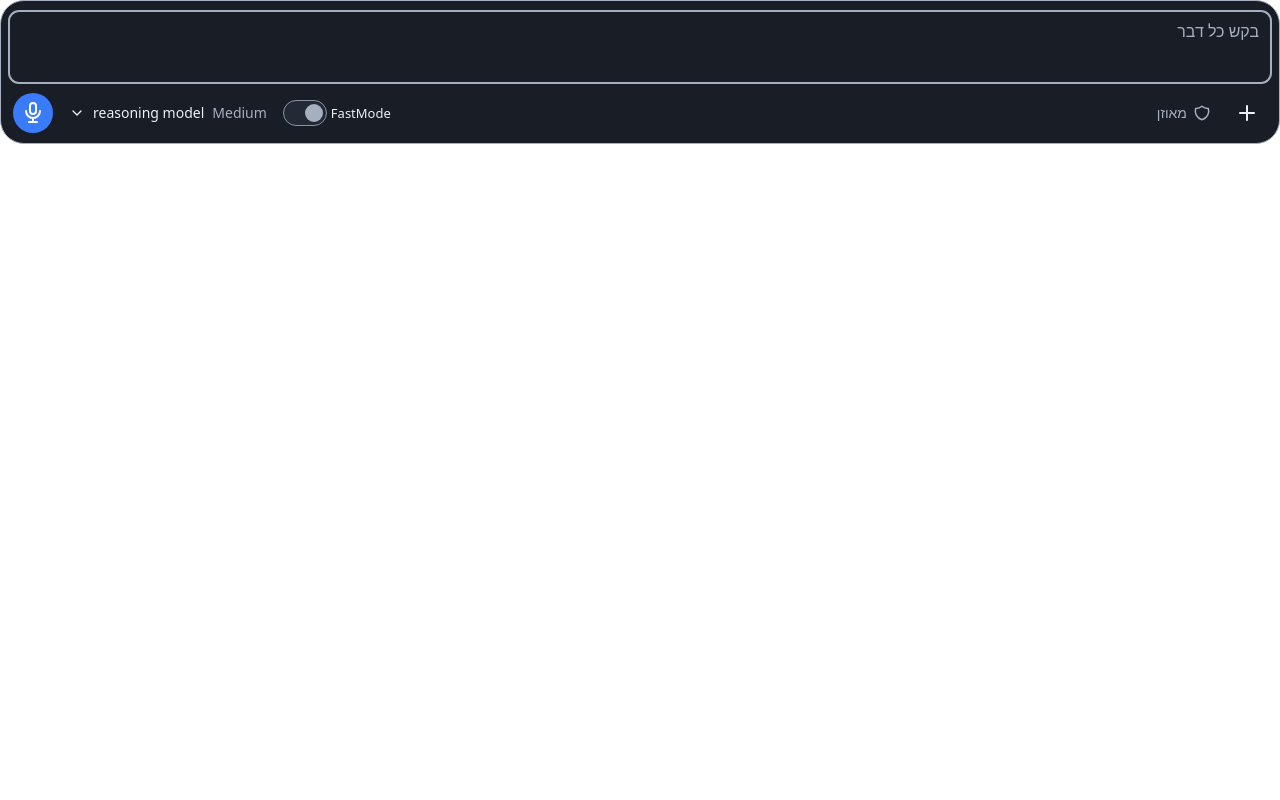
Scenario: budget-only local models have seven named stops and a hint without a redundant switch
Click the button with aria-label "בחירת מודל": (168, 113) [61,93,275,133]
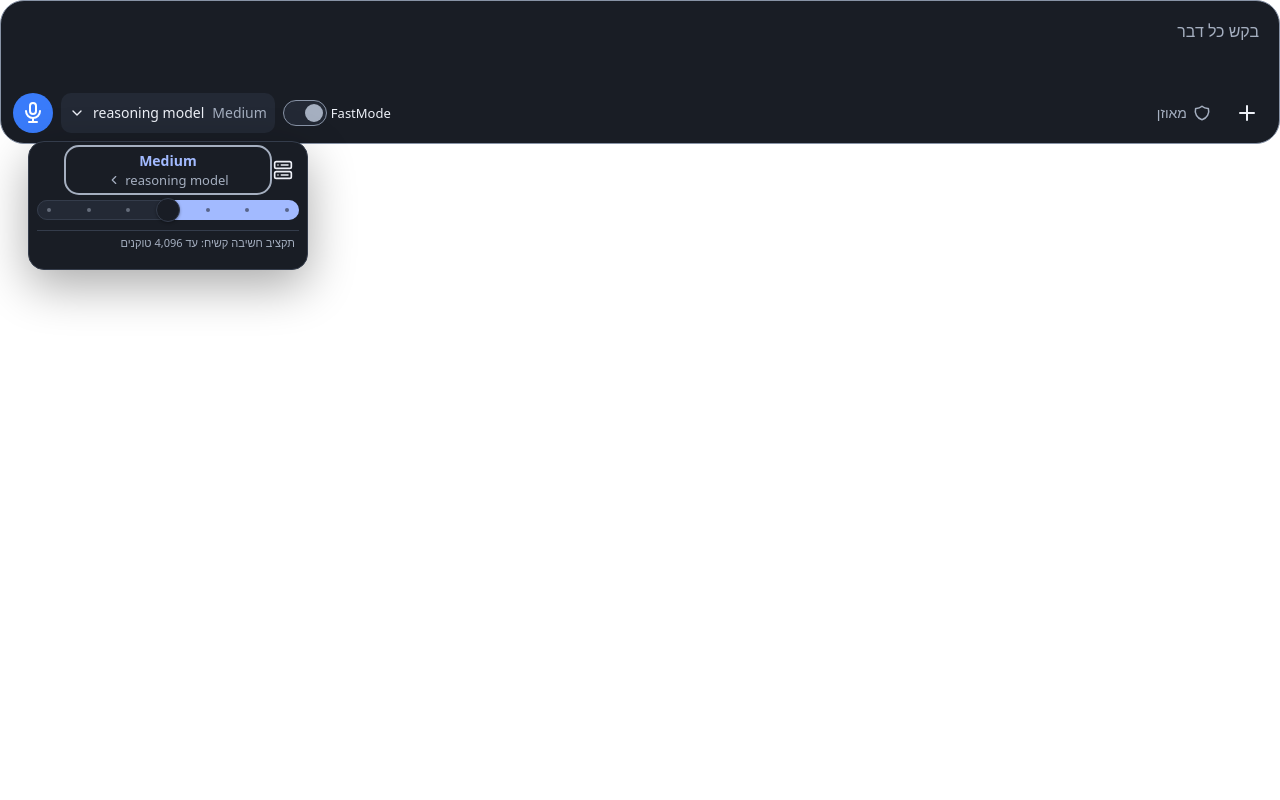
Result: the text "תקציב חשיבה קשיח: עד 4,096 טוקנים" is shown at [120,235,295,250]
